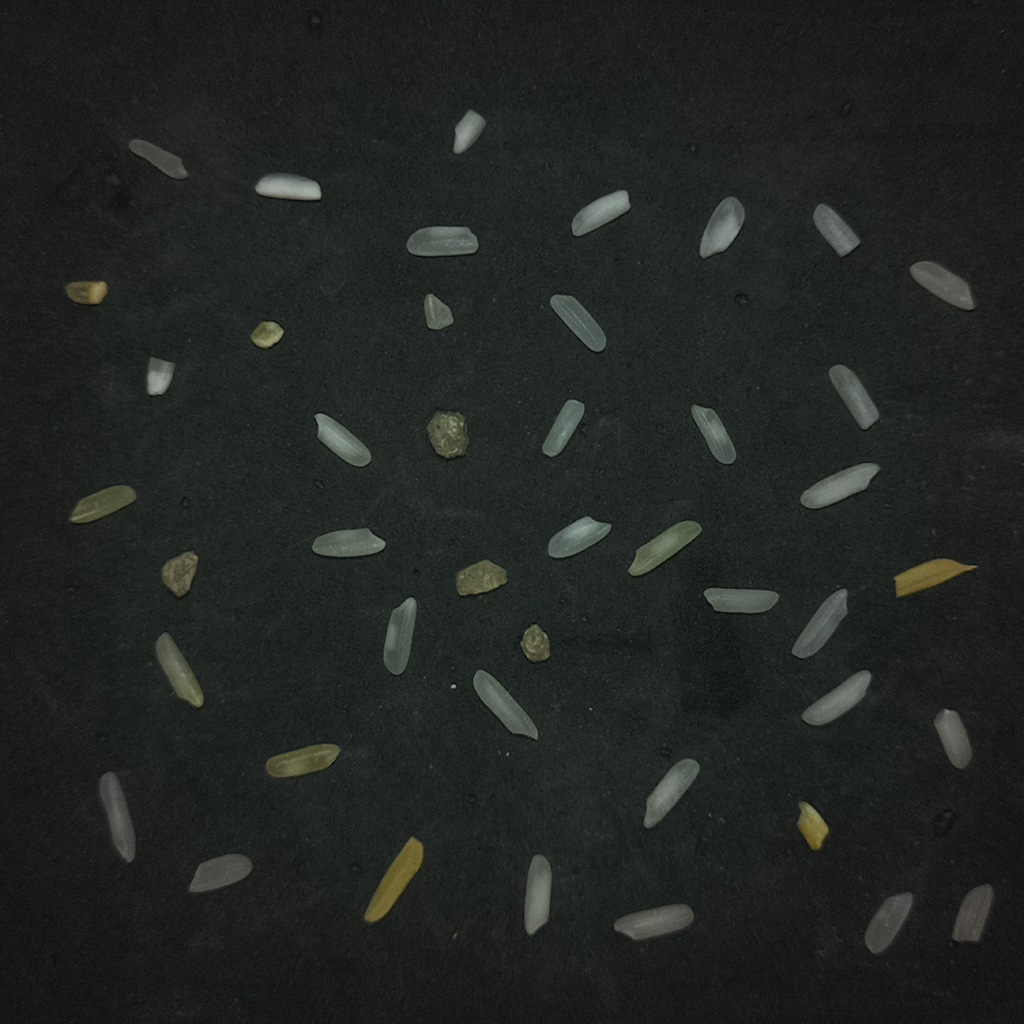broken: (829, 364, 878, 429), (910, 261, 974, 310), (864, 892, 913, 954), (699, 197, 744, 258), (548, 516, 611, 558), (691, 404, 735, 464), (813, 204, 860, 256), (128, 138, 187, 179), (189, 854, 252, 892), (952, 884, 993, 942), (543, 399, 584, 456), (933, 709, 971, 768), (406, 226, 478, 256), (312, 528, 385, 557), (703, 588, 778, 613), (797, 802, 828, 850), (424, 293, 453, 330), (146, 357, 174, 395), (251, 322, 282, 348)
chalky: (800, 463, 880, 509), (315, 414, 370, 467), (571, 190, 630, 236), (524, 854, 551, 935), (255, 173, 321, 200), (453, 109, 485, 154)
damaged: (265, 743, 339, 777)
discolored: (363, 837, 423, 922), (69, 485, 136, 523), (65, 280, 107, 304)
foreign: (427, 411, 468, 458), (457, 559, 507, 595), (161, 551, 198, 597), (520, 624, 549, 662)
paddy: (894, 558, 976, 596)
whole: (473, 670, 538, 739), (628, 520, 701, 575), (643, 758, 699, 828), (792, 588, 847, 658), (802, 671, 871, 725), (155, 633, 203, 707), (549, 294, 606, 352), (99, 772, 135, 862), (613, 905, 693, 940), (383, 598, 416, 675)
